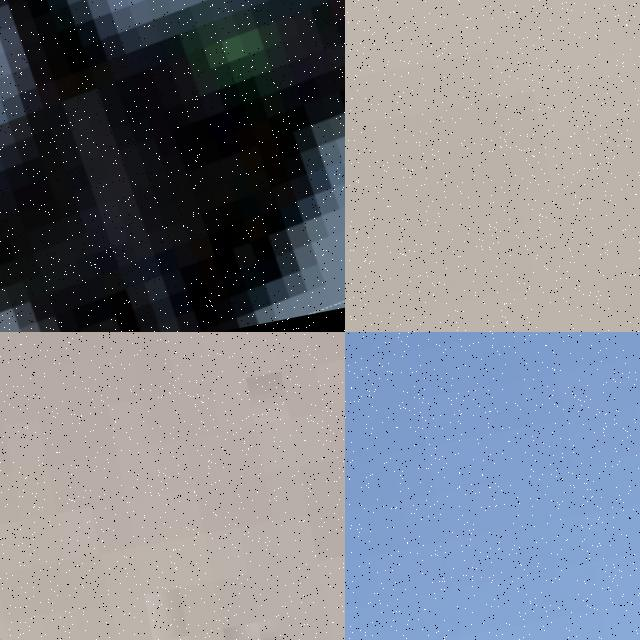drone: (0, 0, 345, 332)
